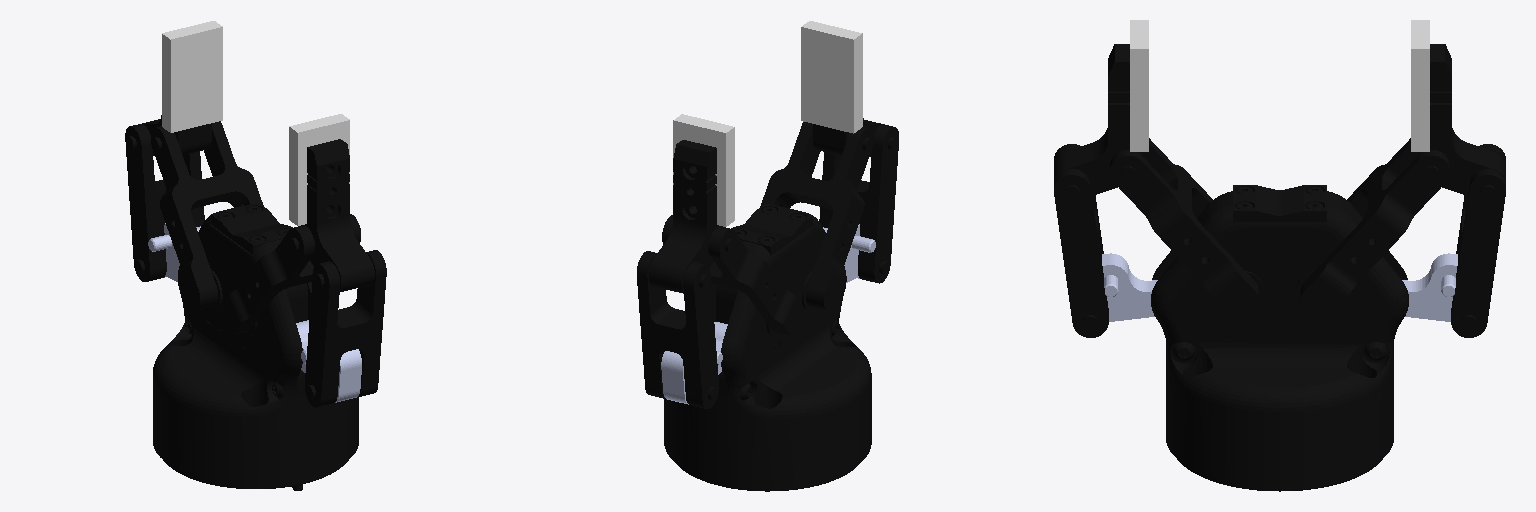
URDF robot description (Robotiq_2F_85):
<?xml version='1.0' encoding='utf-8'?>
<robot name="Robotiq_2F_85">
  <link name="base_link">
    <inertial>
      <origin rpy="0 0 0" xyz="8.625E-08 -4.6583E-06 0.03145" />
      <mass value="0.22652" />
      <inertia ixx="0.00020005" ixy="-4.2442E-10" ixz="-2.9069E-10" iyy="0.00017832" iyz="-3.4402E-08" izz="0.00013478" />
    </inertial>
    <visual>
      <origin rpy="0 0 0" xyz="0 0 0" />
      <geometry>
        <mesh filename="converted/robotiq_2f_85_gripper_visualization/meshes/visual/robotiq_arg2f_85_base_link.obj" />
      </geometry>
      <material name="">
        <color rgba="0.1 0.1 0.1 1" />
      </material>
    </visual>
    <collision>
      <origin rpy="0 0 0" xyz="0 0 0" />
      <geometry>
        <mesh filename="robotiq_2f_85_gripper_visualization/meshes/collision/robotiq_arg2f_base_link.stl" />
      </geometry>
    </collision>
  </link>
  <link name="left_outer_knuckle">
    <inertial>
      <origin xyz="-0.000200000000003065 0.0199435877845359 0.0292245259211331" rpy="0 0 0" />
      <mass value="0.00853198276973456" />
      <inertia ixx="2.89328108496468E-06" ixy="-1.57935047237397E-19" ixz="-1.93980378593255E-19" iyy="1.86719750325683E-06" iyz="-1.21858577871576E-06" izz="1.21905238907251E-06" />
    </inertial>
    <visual>
      <origin rpy="0 0 0" xyz="0 0 0" />
      <geometry>
        <mesh filename="converted/robotiq_2f_85_gripper_visualization/meshes/visual/robotiq_arg2f_85_outer_knuckle.obj" />
      </geometry>
      <material name="">
        <color rgba="0.792156862745098 0.819607843137255 0.933333333333333 1" />
      </material>
    </visual>
    <collision>
      <origin rpy="0 0 0" xyz="0 0 0" />
      <geometry>
        <mesh filename="converted/robotiq_2f_85_gripper_visualization/meshes/collision/robotiq_arg2f_85_outer_knuckle.obj" />
      </geometry>
    </collision>
  </link>
  <link name="left_outer_finger">
    <inertial>
      <origin xyz="0.00030115855001899 0.0373907951953854 -0.0208027427000385" rpy="0 0 0" />
      <mass value="0.022614240507152" />
      <inertia ixx="1.52518312458174E-05" ixy="9.76583423954399E-10" ixz="-5.43838577022588E-10" iyy="6.17694243867776E-06" iyz="6.78636130740228E-06" izz="1.16494917907219E-05" />
    </inertial>
    <visual>
      <origin rpy="0 0 0" xyz="0 0 0" />
      <geometry>
        <mesh filename="converted/robotiq_2f_85_gripper_visualization/meshes/visual/robotiq_arg2f_85_outer_finger.obj" />
      </geometry>
      <material name="">
        <color rgba="0.1 0.1 0.1 1" />
      </material>
    </visual>
    <collision>
      <origin rpy="0 0 0" xyz="0 0 0" />
      <geometry>
        <mesh filename="converted/robotiq_2f_85_gripper_visualization/meshes/collision/robotiq_arg2f_85_outer_finger.obj" />
      </geometry>
    </collision>
  </link>
  <link name="left_inner_finger">
    <inertial>
      <origin xyz="0.000299999999999317 0.0160078233491243 -0.0136945669206257" rpy="0 0 0" />
      <mass value="0.0104003125914103" />
      <inertia ixx="2.71909453810972E-06" ixy="1.35402465472579E-21" ixz="-7.1817349065269E-22" iyy="7.69100314106116E-07" iyz="6.74715432769696E-07" izz="2.30315190420171E-06" />
    </inertial>
    <visual>
      <origin rpy="0 0 0" xyz="0 0 0" />
      <geometry>
        <mesh filename="converted/robotiq_2f_85_gripper_visualization/meshes/visual/robotiq_arg2f_85_inner_finger.obj" />
      </geometry>
      <material name="">
        <color rgba="0.1 0.1 0.1 1" />
      </material>
    </visual>
    <collision>
      <origin rpy="0 0 0" xyz="0 0 0" />
      <geometry>
        <mesh filename="converted/robotiq_2f_85_gripper_visualization/meshes/collision/robotiq_arg2f_85_inner_finger.obj" />
      </geometry>
    </collision>
  </link>
  <link name="left_inner_finger_pad">
    <visual>
      <origin rpy="0 0 0" xyz="0 0 0" />
      <geometry>
        <box size="0.022 0.00635 0.0375" />
      </geometry>
      <material name="">
        <color rgba="0.9 0.9 0.9 1" />
      </material>
    </visual>
    <collision>
      <origin rpy="0 0 0" xyz="0 0 0" />
      <geometry>
        <box size="0.022 0.00635 0.0375" />
      </geometry>
      <material name="">
        <color rgba="0.9 0.0 0.0 1" />
      </material>
    </collision>
    <inertial>
      <origin xyz="0 0 0" rpy="0 0 0" />
      <mass value="0.0057626249999999995" />
      <inertia ixx="6.94671237734375e-07" iyy="9.077334921874999e-07" izz="2.51789495546875e-07" ixy="0" ixz="0" iyz="0" />
    </inertial>
  </link>
  <link name="left_inner_knuckle">
    <inertial>
      <origin xyz="0.000123011831763771 0.0507850843201817 0.00103968640075166" rpy="0 0 0" />
      <mass value="0.0271177346495152" />
      <inertia ixx="2.61910379223783E-05" ixy="-2.43616858946494E-07" ixz="-6.37789906117123E-09" iyy="2.8270243746167E-06" iyz="-5.37200748039765E-07" izz="2.83695868220296E-05" />
    </inertial>
    <visual>
      <origin rpy="0 0 0" xyz="0 0 0" />
      <geometry>
        <mesh filename="converted/robotiq_2f_85_gripper_visualization/meshes/visual/robotiq_arg2f_85_inner_knuckle.obj" />
      </geometry>
      <material name="">
        <color rgba="0.1 0.1 0.1 1" />
      </material>
    </visual>
    <collision>
      <origin rpy="0 0 0" xyz="0 0 0" />
      <geometry>
        <mesh filename="converted/robotiq_2f_85_gripper_visualization/meshes/collision/robotiq_arg2f_85_inner_knuckle.obj" />
      </geometry>
    </collision>
  </link>
  <link name="right_outer_knuckle">
    <inertial>
      <origin xyz="-0.000200000000003065 0.0199435877845359 0.0292245259211331" rpy="0 0 0" />
      <mass value="0.00853198276973456" />
      <inertia ixx="2.89328108496468E-06" ixy="-1.57935047237397E-19" ixz="-1.93980378593255E-19" iyy="1.86719750325683E-06" iyz="-1.21858577871576E-06" izz="1.21905238907251E-06" />
    </inertial>
    <visual>
      <origin rpy="0 0 0" xyz="0 0 0" />
      <geometry>
        <mesh filename="converted/robotiq_2f_85_gripper_visualization/meshes/visual/robotiq_arg2f_85_outer_knuckle.obj" />
      </geometry>
      <material name="">
        <color rgba="0.792156862745098 0.819607843137255 0.933333333333333 1" />
      </material>
    </visual>
    <collision>
      <origin rpy="0 0 0" xyz="0 0 0" />
      <geometry>
        <mesh filename="converted/robotiq_2f_85_gripper_visualization/meshes/collision/robotiq_arg2f_85_outer_knuckle.obj" />
      </geometry>
    </collision>
  </link>
  <link name="right_outer_finger">
    <inertial>
      <origin xyz="0.00030115855001899 0.0373907951953854 -0.0208027427000385" rpy="0 0 0" />
      <mass value="0.022614240507152" />
      <inertia ixx="1.52518312458174E-05" ixy="9.76583423954399E-10" ixz="-5.43838577022588E-10" iyy="6.17694243867776E-06" iyz="6.78636130740228E-06" izz="1.16494917907219E-05" />
    </inertial>
    <visual>
      <origin rpy="0 0 0" xyz="0 0 0" />
      <geometry>
        <mesh filename="converted/robotiq_2f_85_gripper_visualization/meshes/visual/robotiq_arg2f_85_outer_finger.obj" />
      </geometry>
      <material name="">
        <color rgba="0.1 0.1 0.1 1" />
      </material>
    </visual>
    <collision>
      <origin rpy="0 0 0" xyz="0 0 0" />
      <geometry>
        <mesh filename="converted/robotiq_2f_85_gripper_visualization/meshes/collision/robotiq_arg2f_85_outer_finger.obj" />
      </geometry>
    </collision>
  </link>
  <link name="right_inner_finger">
    <inertial>
      <origin xyz="0.000299999999999317 0.0160078233491243 -0.0136945669206257" rpy="0 0 0" />
      <mass value="0.0104003125914103" />
      <inertia ixx="2.71909453810972E-06" ixy="1.35402465472579E-21" ixz="-7.1817349065269E-22" iyy="7.69100314106116E-07" iyz="6.74715432769696E-07" izz="2.30315190420171E-06" />
    </inertial>
    <visual>
      <origin rpy="0 0 0" xyz="0 0 0" />
      <geometry>
        <mesh filename="converted/robotiq_2f_85_gripper_visualization/meshes/visual/robotiq_arg2f_85_inner_finger.obj" />
      </geometry>
      <material name="">
        <color rgba="0.1 0.1 0.1 1" />
      </material>
    </visual>
    <collision>
      <origin rpy="0 0 0" xyz="0 0 0" />
      <geometry>
        <mesh filename="converted/robotiq_2f_85_gripper_visualization/meshes/collision/robotiq_arg2f_85_inner_finger.obj" />
      </geometry>
    </collision>
  </link>
  <link name="right_inner_finger_pad">
    <visual>
      <origin rpy="0 0 0" xyz="0 0 0" />
      <geometry>
        <box size="0.022 0.00635 0.0375" />
      </geometry>
      <material name="">
        <color rgba="0.9 0.9 0.9 1" />
      </material>
    </visual>
    <collision>
      <origin rpy="0 0 0" xyz="0 0 0" />
      <geometry>
        <box size="0.022 0.00635 0.0375" />
      </geometry>
      <material name="">
        <color rgba="0.9 0.0 0.0 1" />
      </material>
    </collision>
    <inertial>
      <origin xyz="0 0 0" rpy="0 0 0" />
      <mass value="0.0057626249999999995" />
      <inertia ixx="6.94671237734375e-07" iyy="9.077334921874999e-07" izz="2.51789495546875e-07" ixy="0" ixz="0" iyz="0" />
    </inertial>
  </link>
  <link name="right_inner_knuckle">
    <inertial>
      <origin xyz="0.000123011831763771 0.0507850843201817 0.00103968640075166" rpy="0 0 0" />
      <mass value="0.0271177346495152" />
      <inertia ixx="2.61910379223783E-05" ixy="-2.43616858946494E-07" ixz="-6.37789906117123E-09" iyy="2.8270243746167E-06" iyz="-5.37200748039765E-07" izz="2.83695868220296E-05" />
    </inertial>
    <visual>
      <origin rpy="0 0 0" xyz="0 0 0" />
      <geometry>
        <mesh filename="converted/robotiq_2f_85_gripper_visualization/meshes/visual/robotiq_arg2f_85_inner_knuckle.obj" />
      </geometry>
      <material name="">
        <color rgba="0.1 0.1 0.1 1" />
      </material>
    </visual>
    <collision>
      <origin rpy="0 0 0" xyz="0 0 0" />
      <geometry>
        <mesh filename="converted/robotiq_2f_85_gripper_visualization/meshes/collision/robotiq_arg2f_85_inner_knuckle.obj" />
      </geometry>
    </collision>
  </link>
  <joint name="finger_joint" type="revolute">
    <origin rpy="0 0 3.141592653589793" xyz="0 -0.0306011 0.054904" />
    <parent link="base_link" />
    <child link="left_outer_knuckle" />
    <axis xyz="1 0 0" />
    <limit effort="1000" lower="0" upper="0.8" velocity="2.0" />
  </joint>
  <joint name="left_outer_finger_joint" type="fixed">
    <origin rpy="0 0 0" xyz="0 0.0315 -0.0041" />
    <parent link="left_outer_knuckle" />
    <child link="left_outer_finger" />
    <axis xyz="1 0 0" />
  </joint>
  <joint name="left_inner_knuckle_joint" type="revolute">
    <origin rpy="0 0 3.141592653589793" xyz="0 -0.0127 0.06142" />
    <parent link="base_link" />
    <child link="left_inner_knuckle" />
    <axis xyz="1 0 0" />
    <limit effort="1000" lower="0" upper="0.8757" velocity="2.0" />
    <mimic joint="finger_joint" multiplier="1" offset="0" />
  </joint>
  <joint name="left_inner_finger_joint" type="revolute">
    <origin rpy="0 0 0" xyz="0 0.0061 0.0471" />
    <parent link="left_outer_finger" />
    <child link="left_inner_finger" />
    <axis xyz="1 0 0" />
    <limit effort="1000" lower="-0.8" upper="0" velocity="2.0" />
    <mimic joint="finger_joint" multiplier="-1" offset="0" />
  </joint>
  <joint name="left_inner_finger_pad_joint" type="fixed">
    <origin rpy="0 0 0" xyz="0 -0.0220203446692936 0.03242" />
    <parent link="left_inner_finger" />
    <child link="left_inner_finger_pad" />
    <axis xyz="0 0 1" />
  </joint>
  <joint name="right_outer_knuckle_joint" type="revolute">
    <origin rpy="0 0 0" xyz="0 0.0306011 0.054904" />
    <parent link="base_link" />
    <child link="right_outer_knuckle" />
    <axis xyz="1 0 0" />
    <limit effort="1000" lower="0" upper="0.81" velocity="2.0" />
    <mimic joint="finger_joint" multiplier="1" offset="0" />
  </joint>
  <joint name="right_outer_finger_joint" type="fixed">
    <origin rpy="0 0 0" xyz="0 0.0315 -0.0041" />
    <parent link="right_outer_knuckle" />
    <child link="right_outer_finger" />
    <axis xyz="1 0 0" />
  </joint>
  <joint name="right_inner_knuckle_joint" type="revolute">
    <origin rpy="0 0 0.0" xyz="0 0.0127 0.06142" />
    <parent link="base_link" />
    <child link="right_inner_knuckle" />
    <axis xyz="1 0 0" />
    <limit effort="1000" lower="0" upper="0.8757" velocity="2.0" />
    <mimic joint="finger_joint" multiplier="1" offset="0" />
  </joint>
  <joint name="right_inner_finger_joint" type="revolute">
    <origin rpy="0 0 0" xyz="0 0.0061 0.0471" />
    <parent link="right_outer_finger" />
    <child link="right_inner_finger" />
    <axis xyz="1 0 0" />
    <limit effort="1000" lower="-0.8" upper="0" velocity="2.0" />
    <mimic joint="finger_joint" multiplier="-1" offset="0" />
  </joint>
  <joint name="right_inner_finger_pad_joint" type="fixed">
    <origin rpy="0 0 0" xyz="0 -0.0220203446692936 0.03242" />
    <parent link="right_inner_finger" />
    <child link="right_inner_finger_pad" />
    <axis xyz="0 0 1" />
  </joint>
</robot>

--- Facts derived from the render (not from the file) ---
Views: 3 orthographic renders of the robot side by side, from view 1: azimuth 30°, elevation 25°; view 2: azimuth 150°, elevation 25°; view 3: azimuth 270°, elevation 25°.
Robot: Robotiq_2F_85 — 11 links, 10 joints (6 revolute, 4 fixed); root link base_link; default pose: every joint at zero.
Links seen in each view (by area): view 1: base_link, right_inner_knuckle, left_outer_finger, left_inner_finger, right_inner_finger_pad, right_outer_finger, left_inner_knuckle, left_inner_finger_pad, left_outer_knuckle, right_inner_finger, right_outer_knuckle; view 2: base_link, left_inner_knuckle, right_outer_finger, right_inner_finger, left_inner_finger_pad, left_outer_finger, right_inner_knuckle, right_inner_finger_pad, right_outer_knuckle, left_inner_finger, left_outer_knuckle; view 3: base_link, left_inner_knuckle, right_inner_knuckle, left_outer_finger, right_outer_finger, left_inner_finger, right_inner_finger, left_inner_finger_pad, right_inner_finger_pad, left_outer_knuckle, right_outer_knuckle.
Link boxes in pixels (x1=…): base_link: x1=153, y1=203, x2=358, y2=490; right_inner_knuckle: x1=151, y1=121, x2=263, y2=309; left_outer_finger: x1=305, y1=250, x2=386, y2=407; left_inner_finger: x1=301, y1=139, x2=374, y2=291; right_inner_finger_pad: x1=162, y1=21, x2=222, y2=132; right_outer_finger: x1=125, y1=124, x2=204, y2=281; left_inner_knuckle: x1=219, y1=214, x2=360, y2=335; left_inner_finger_pad: x1=289, y1=114, x2=349, y2=225; left_outer_knuckle: x1=296, y1=320, x2=361, y2=402; right_inner_finger: x1=142, y1=115, x2=211, y2=155; right_outer_knuckle: x1=148, y1=223, x2=200, y2=281; base_link: x1=664, y1=203, x2=871, y2=491; left_inner_knuckle: x1=760, y1=122, x2=873, y2=310; right_outer_finger: x1=637, y1=251, x2=718, y2=408; right_inner_finger: x1=649, y1=140, x2=722, y2=293; left_inner_finger_pad: x1=801, y1=21, x2=862, y2=133; left_outer_finger: x1=819, y1=124, x2=898, y2=283; right_inner_knuckle: x1=662, y1=215, x2=804, y2=336; right_inner_finger_pad: x1=673, y1=114, x2=734, y2=226; right_outer_knuckle: x1=661, y1=322, x2=727, y2=404; left_inner_finger: x1=813, y1=118, x2=881, y2=156; left_outer_knuckle: x1=823, y1=224, x2=875, y2=282; base_link: x1=1151, y1=185, x2=1408, y2=491; left_inner_knuckle: x1=1110, y1=138, x2=1259, y2=317; right_inner_knuckle: x1=1300, y1=138, x2=1449, y2=317; left_outer_finger: x1=1054, y1=144, x2=1108, y2=337; right_outer_finger: x1=1451, y1=144, x2=1505, y2=337; left_inner_finger: x1=1054, y1=44, x2=1144, y2=195; right_inner_finger: x1=1415, y1=44, x2=1505, y2=195; left_inner_finger_pad: x1=1130, y1=20, x2=1148, y2=151; right_inner_finger_pad: x1=1411, y1=20, x2=1429, y2=151; left_outer_knuckle: x1=1102, y1=253, x2=1157, y2=321; right_outer_knuckle: x1=1402, y1=253, x2=1457, y2=321.
Bounding box of the posed robot: 0.075 × 0.1484 × 0.1531 m (x, y, z).
9 mesh visuals loaded from 5 distinct referenced files (5 OBJ).
